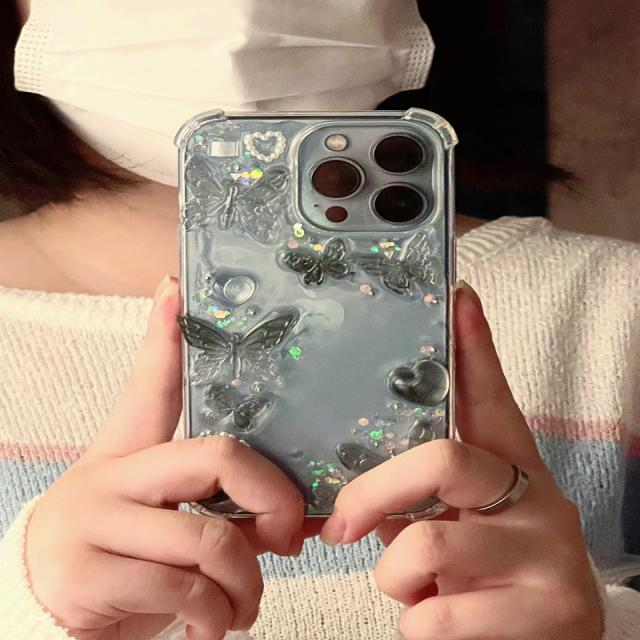phone: (173, 106, 459, 519)
